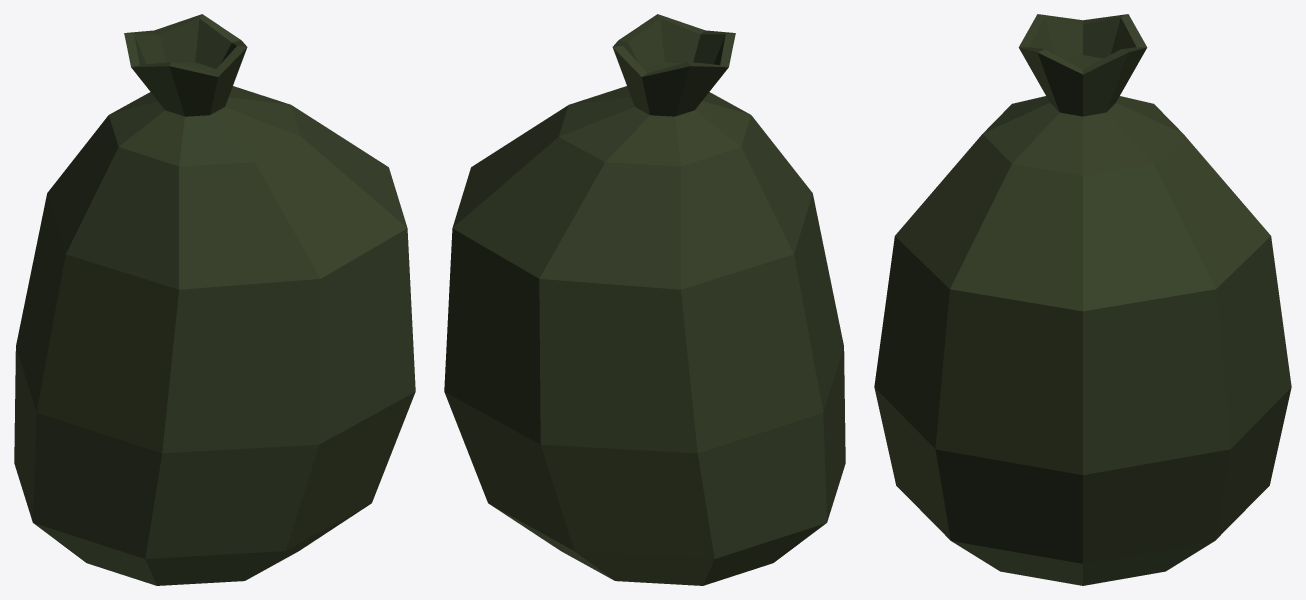
Rendered from Prop_TrashBag_02.fbx.
3 renders of one model, left to right at view 1: azimuth 30°, elevation 25°; view 2: azimuth 150°, elevation 25°; view 3: azimuth 270°, elevation 25°, orthographic.
Parts seen in each view (by area): view 1: Prop_TrashBag_02; view 2: Prop_TrashBag_02; view 3: Prop_TrashBag_02.
Part boxes in pixels (left/top/right/bottom): Prop_TrashBag_02: left=14, top=14, right=415, bottom=585; Prop_TrashBag_02: left=444, top=14, right=845, bottom=585; Prop_TrashBag_02: left=874, top=14, right=1291, bottom=585.
Size of the model in its own units: 39.89 by 52.5 by 39.48.
